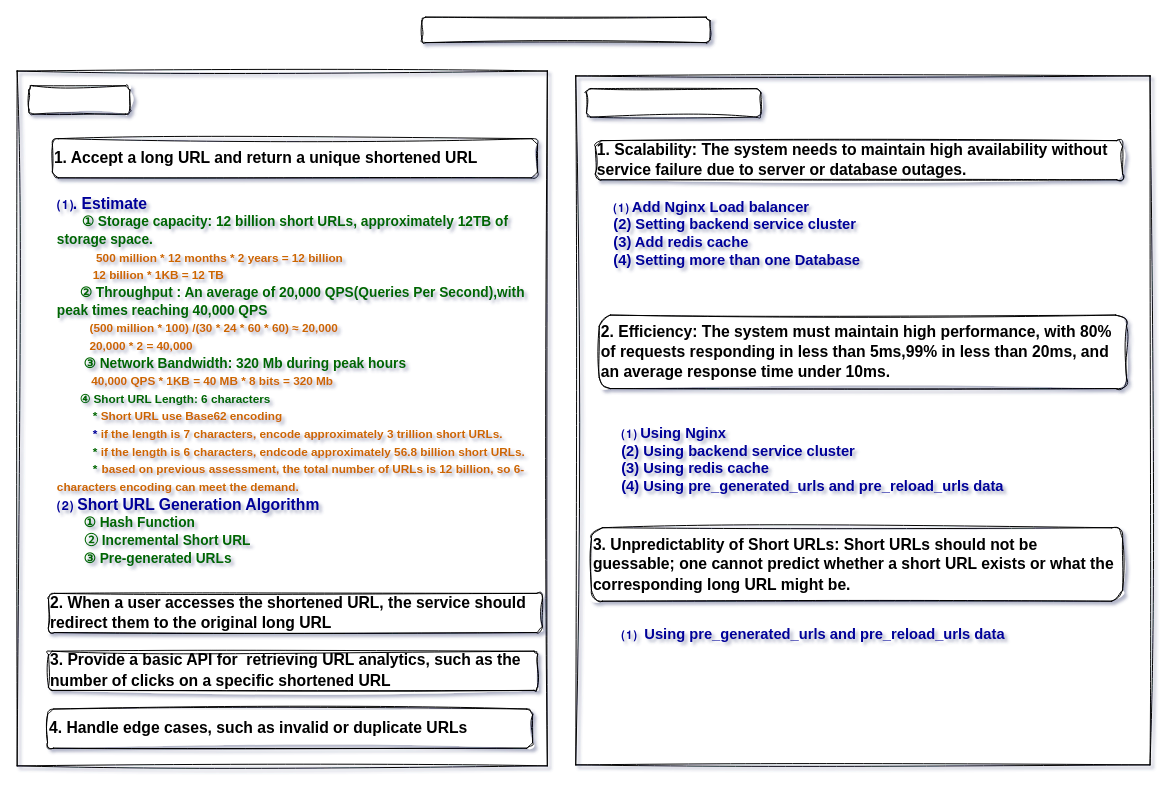
This 1173x789 diagram has some shape labels left out. The shapes that lost their labels are listed below. From the top down, each one's centre as x and y in pixels, then its label:
At (565,29): "URL Shortener Service".
At (79,99): "Function".
At (673,102): "No Function".
